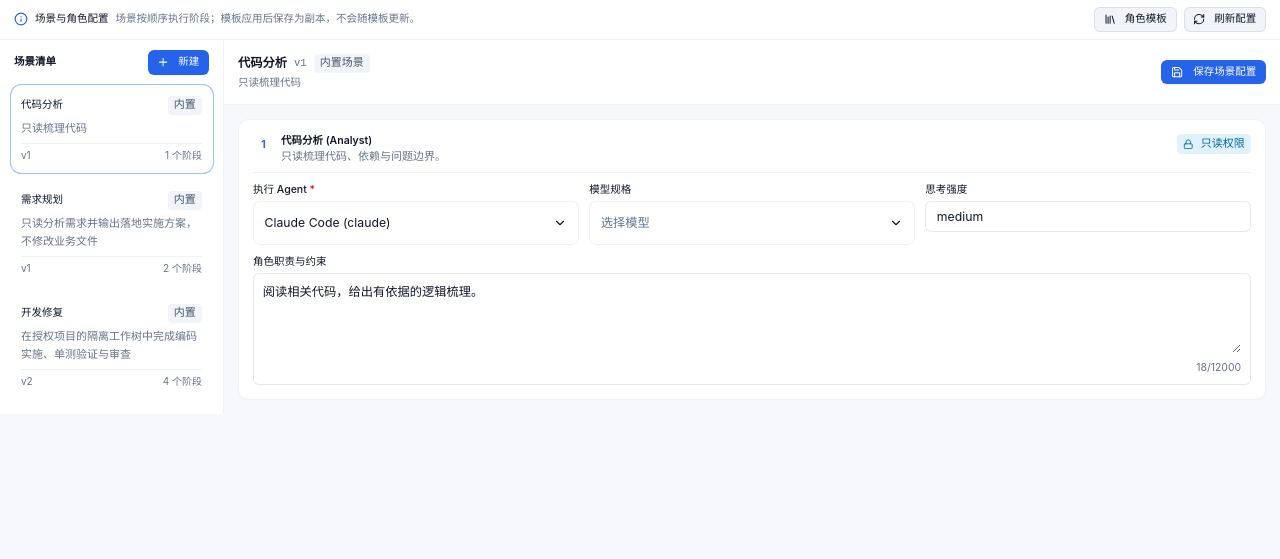
Test: PI role selection › marks unavailable recommendations and never substitutes another provider
This screenshot has width=1280, height=559.
Click the button with aria-label "analyst Agent" at (327, 222), box [253,201,579,245]
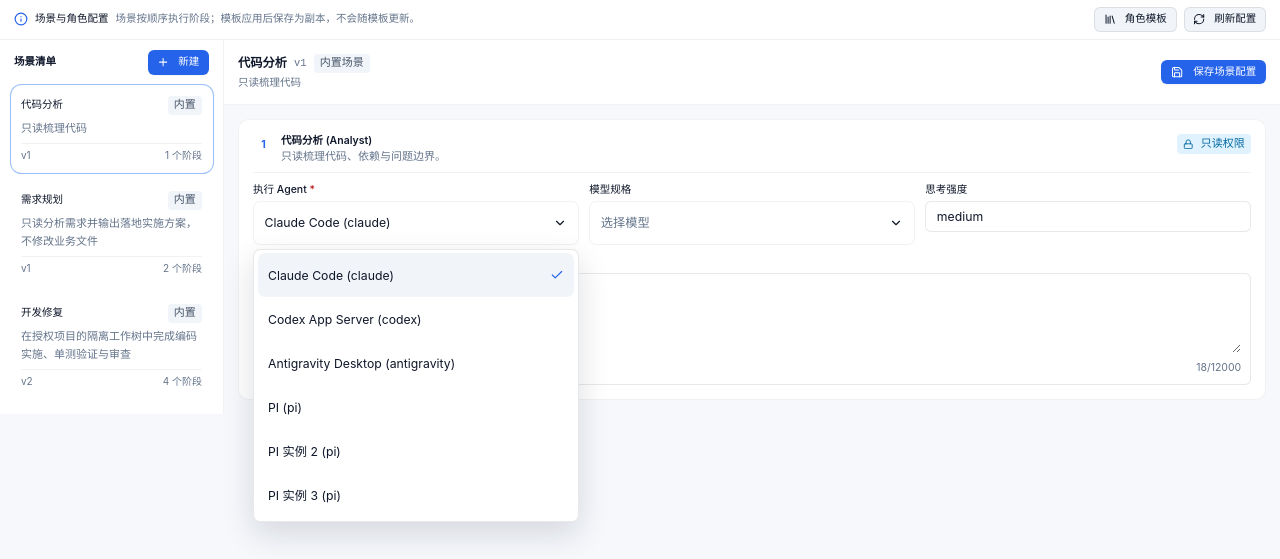
Expected: the option "PI (pi)" is shown
Click the option "PI (pi)" at (285, 407), box [258,385,574,429]
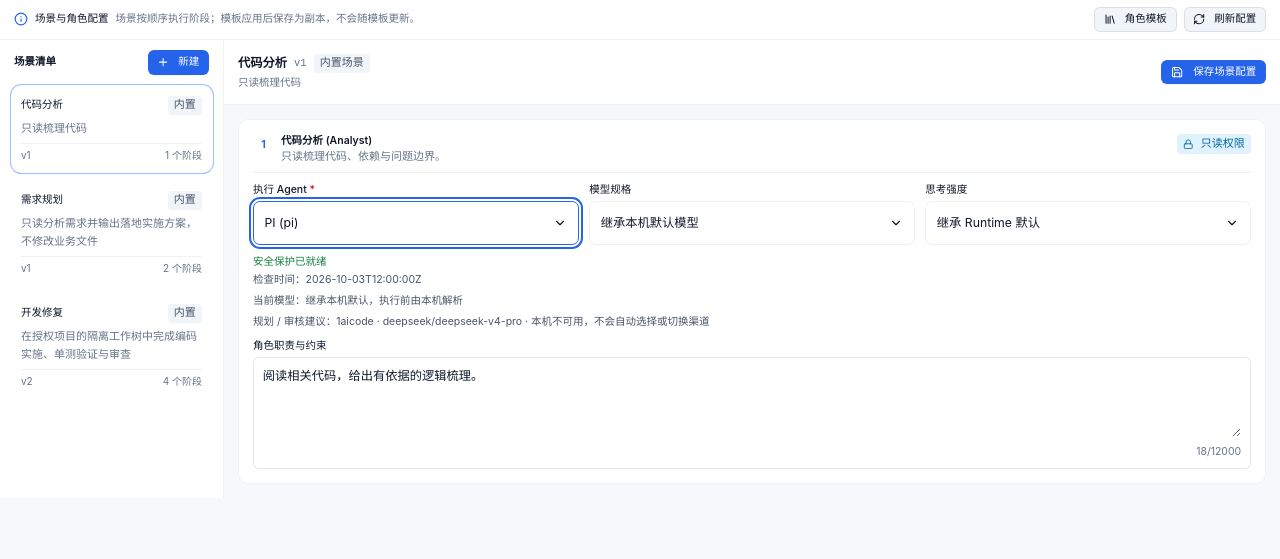
Expected: the text "本机不可用，不会自动选择或切换渠道" is shown, [253,315,710,328]
Expected: the button with aria-label "analyst 模型" reads "继承本机默认模型", [589,201,915,245]
